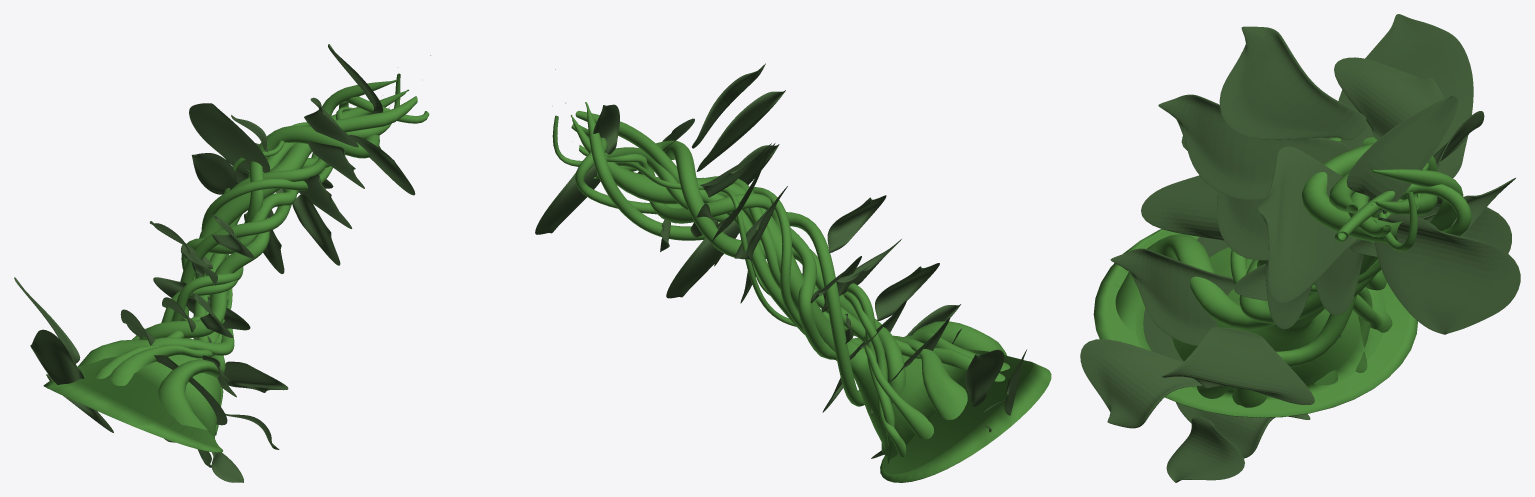
File: BeansalkBridge#09.fbx
The picture shows the model from 3 angles, left to right: view 1: azimuth 30°, elevation 25°; view 2: azimuth 150°, elevation 25°; view 3: azimuth 270°, elevation 25°; orthographic projection. The views are drawn at different scales.
Visible parts, largest first — view 1: Stalk12.001, Stalk12, Stalk12.005, Stalk12.006, Stalk12.010, Stalk12|Plane.006|Dupli|2, Stalk12.002, Stalk12.001|Plane.006|Dupli|4, Stalk12.004, Stalk12.003, Stalk12.010|Plane.006|Dupli|6, Stalk12.002|Plane.006|Dupli|1 (+17 smaller); view 2: Stalk12.001, Stalk12.002, Stalk12.010, Stalk12.005, Stalk12, Stalk12.006, Stalk12.009, Stalk12.003, Stalk12.004, Stalk12.010|Plane.006|Dupli|5, Stalk12|Plane.006|Dupli|6, Stalk12.001|Plane.006|Dupli|5 (+11 smaller); view 3: Stalk12.001, Stalk12.001|Plane.006|Dupli|5, Stalk12|Plane.006|Dupli|5, Stalk12|Plane.006|Dupli|7, Stalk12|Plane.006|Dupli|6, Stalk12|Plane.006|Dupli|2, Stalk12.002|Plane.006|Dupli|3, Stalk12.010|Plane.006|Dupli|7, Stalk12.001|Plane.006|Dupli|6, Stalk12|Plane.006|Dupli|3, Stalk12.010|Plane.006|Dupli|, Stalk12.005 (+19 smaller).
Boxes of the visible parts, x1,y1,x2,y2 form: Stalk12.001: (43,89,409,452); Stalk12: (139,55,430,339); Stalk12.005: (158,107,391,431); Stalk12.006: (110,96,429,385); Stalk12.010: (78,96,417,366); Stalk12|Plane.006|Dupli|2: (189,103,270,173); Stalk12.002: (180,79,397,435); Stalk12.001|Plane.006|Dupli|4: (30,329,84,384); Stalk12.004: (95,158,326,378); Stalk12.003: (193,107,353,357); Stalk12.010|Plane.006|Dupli|6: (191,153,237,194); Stalk12.002|Plane.006|Dupli|1: (292,194,340,265); Stalk12.001: (571,114,1051,482); Stalk12.002: (585,102,864,406); Stalk12.010: (552,106,967,419); Stalk12.005: (579,145,1006,359); Stalk12: (555,69,905,454); Stalk12.006: (571,123,1009,371); Stalk12.009: (552,115,933,439); Stalk12.003: (606,153,865,341); Stalk12.004: (605,154,1005,381); Stalk12.010|Plane.006|Dupli|5: (666,217,739,298); Stalk12|Plane.006|Dupli|6: (696,90,785,171); Stalk12.001|Plane.006|Dupli|5: (535,156,608,234); Stalk12.001: (1093,193,1437,417); Stalk12.001|Plane.006|Dupli|5: (1375,214,1520,334); Stalk12|Plane.006|Dupli|5: (1219,26,1366,139); Stalk12|Plane.006|Dupli|7: (1258,146,1356,303); Stalk12|Plane.006|Dupli|6: (1158,94,1349,199); Stalk12|Plane.006|Dupli|2: (1338,14,1473,178); Stalk12.002|Plane.006|Dupli|3: (1080,339,1202,428); Stalk12.010|Plane.006|Dupli|7: (1162,327,1314,404); Stalk12.001|Plane.006|Dupli|6: (1110,248,1234,345); Stalk12|Plane.006|Dupli|3: (1346,95,1457,213); Stalk12.010|Plane.006|Dupli|: (1334,57,1444,140); Stalk12.005: (1115,192,1391,333).
Size of the model in its own units: 209 by 160 by 114.
